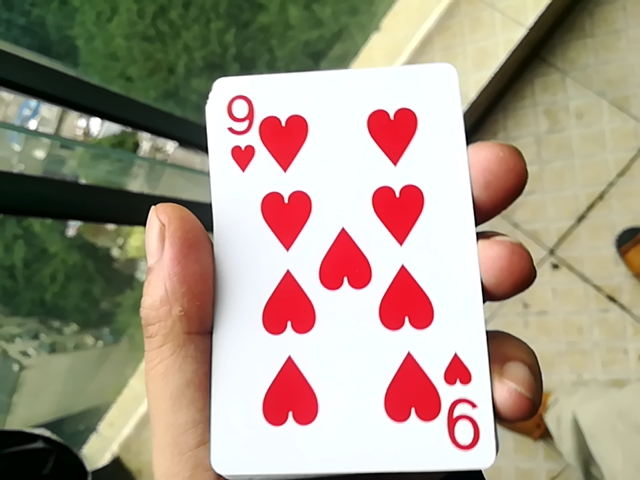hx 9: (183, 62, 491, 480)
